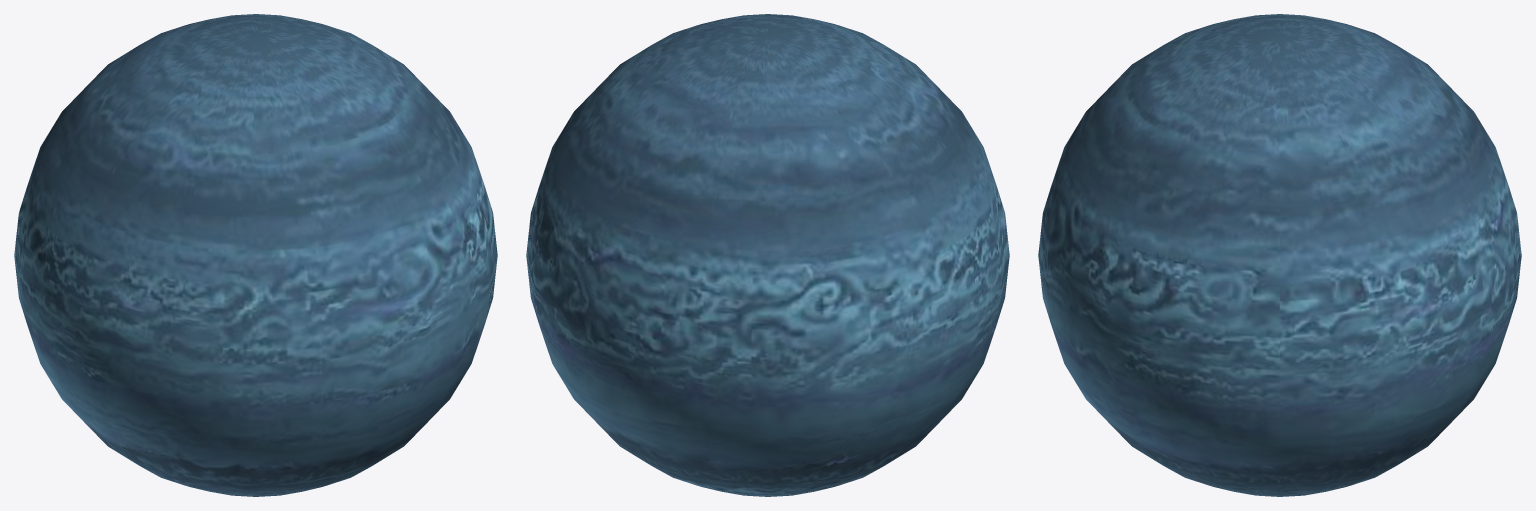
The model's file is neptuno.dae.
3 renders of one model, left to right at view 1: azimuth 30°, elevation 25°; view 2: azimuth 150°, elevation 25°; view 3: azimuth 270°, elevation 25°, orthographic.
Visible parts, largest first — view 1: Model; view 2: Model; view 3: Model.
Boxes of the visible parts, x1,y1,x2,y2 form: Model: (14,14,497,496); Model: (526,14,1009,496); Model: (1038,14,1521,496).
Size of the model in its own units: 105 by 105 by 105.
1 material, 1 textured.
